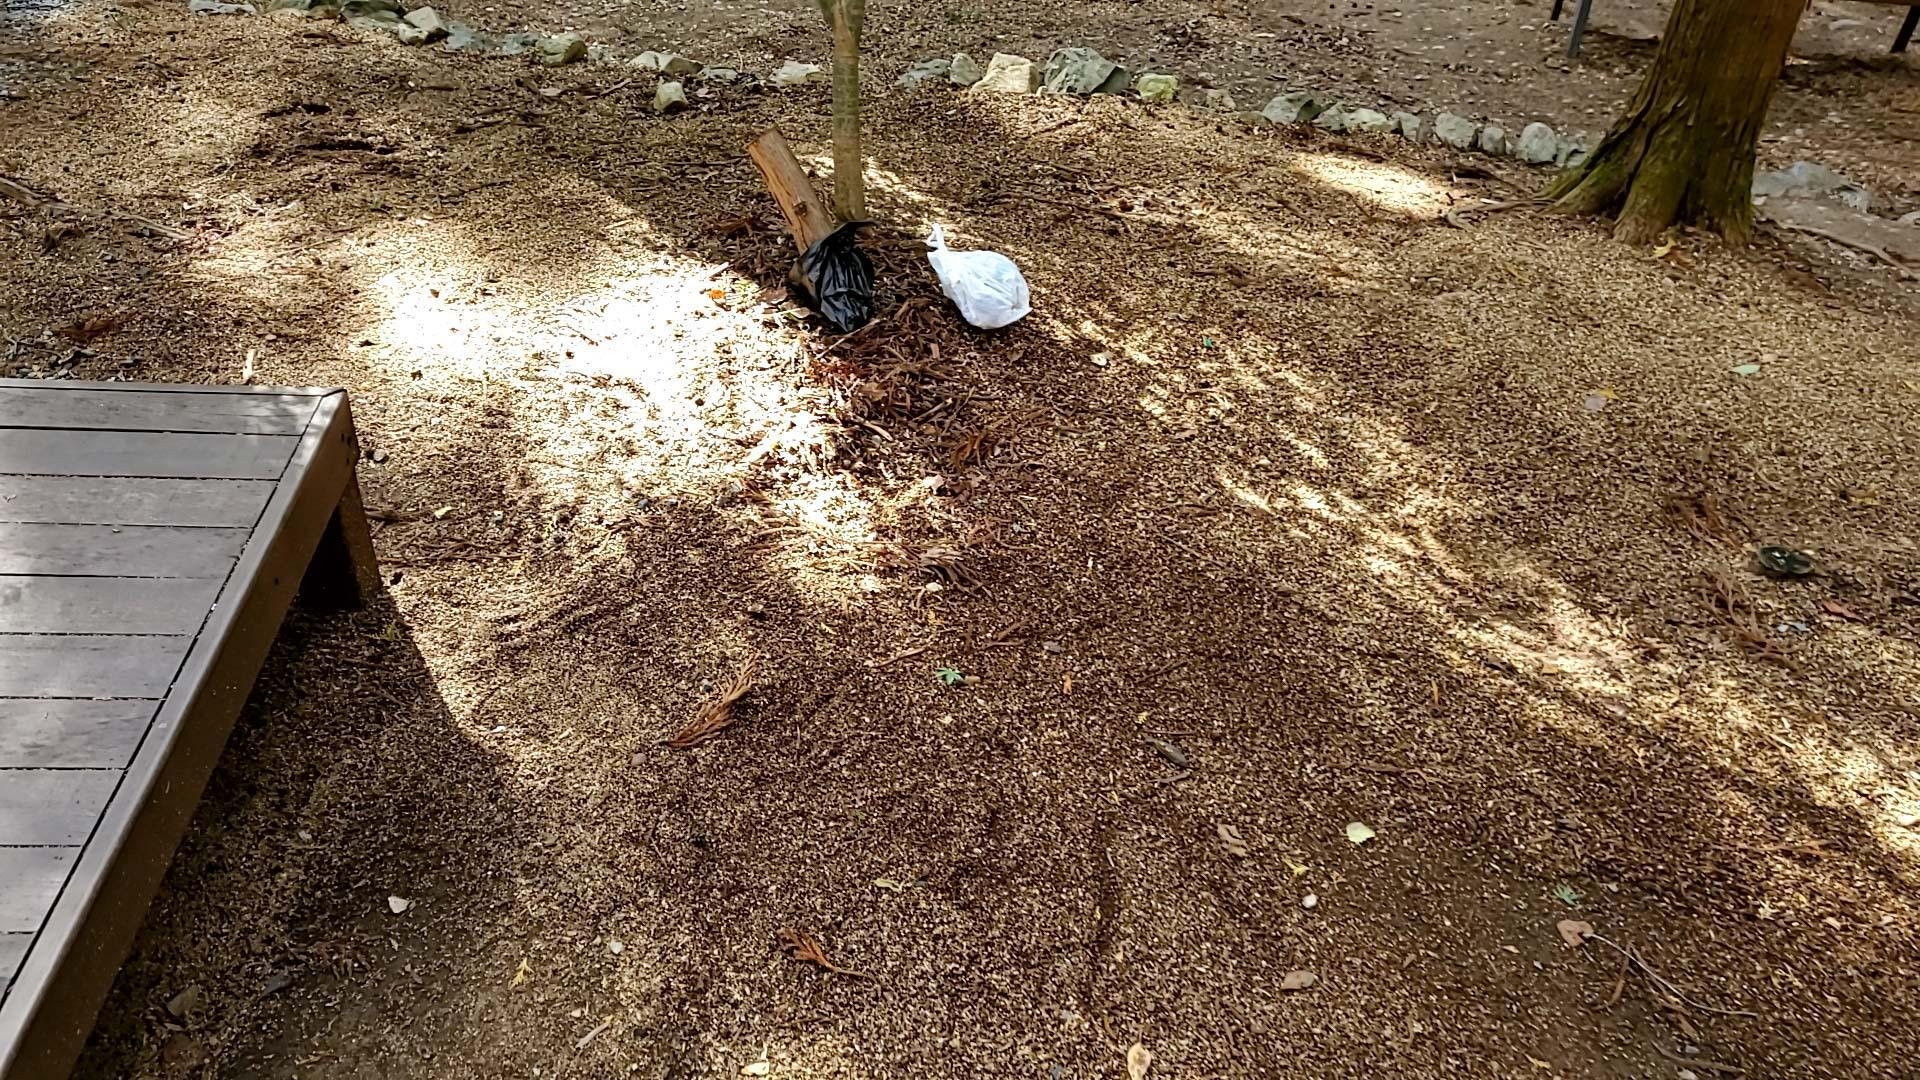black_bag: (778, 212, 895, 336)
white_bag: (914, 220, 1047, 334)
